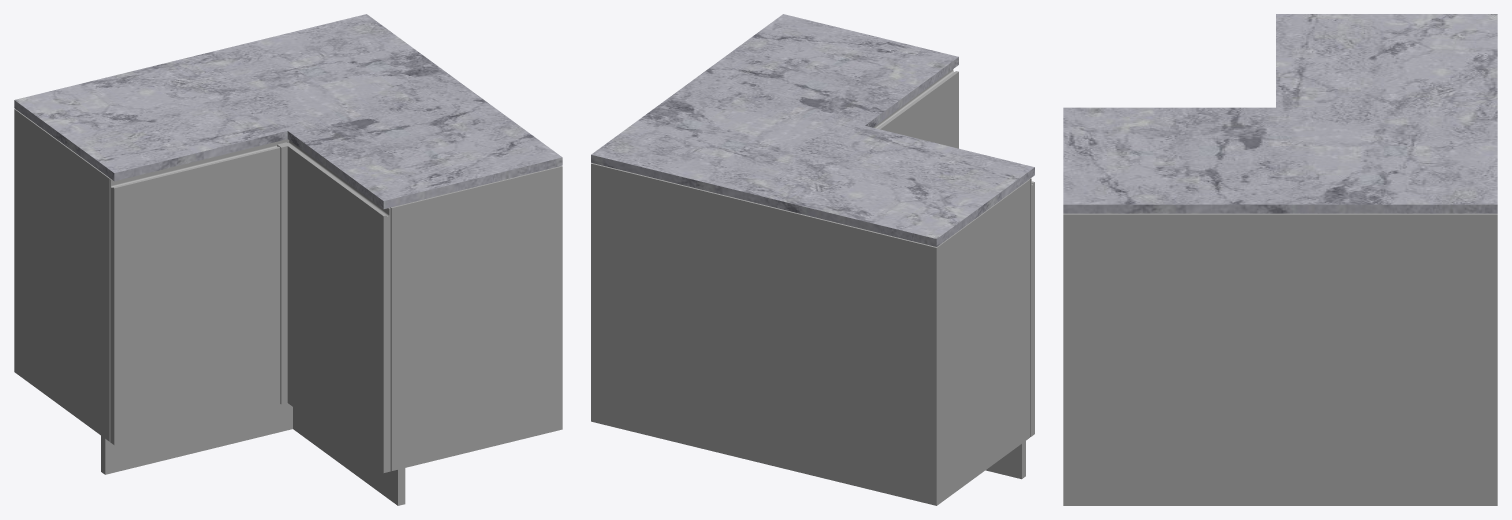
Rendered from kitchen_corner_unit.glb.
3 views of the same model, side by side, from view 1: azimuth 30°, elevation 25°; view 2: azimuth 150°, elevation 25°; view 3: azimuth 270°, elevation 25° (orthographic). The views are drawn at different scales.
Parts seen in each view (by area): view 1: Geom3D (×4); view 2: Geom3D (×4); view 3: Geom3D (×2).
Boxes of the visible parts, x1,y1,x2,y2 form: Geom3D (×4): [14, 14, 562, 505]; Geom3D (×4): [591, 14, 1034, 505]; Geom3D (×2): [1063, 14, 1497, 505].
Size of the model in its own units: 1.22 by 1.02 by 1.18.
2 materials, 1 textured.
